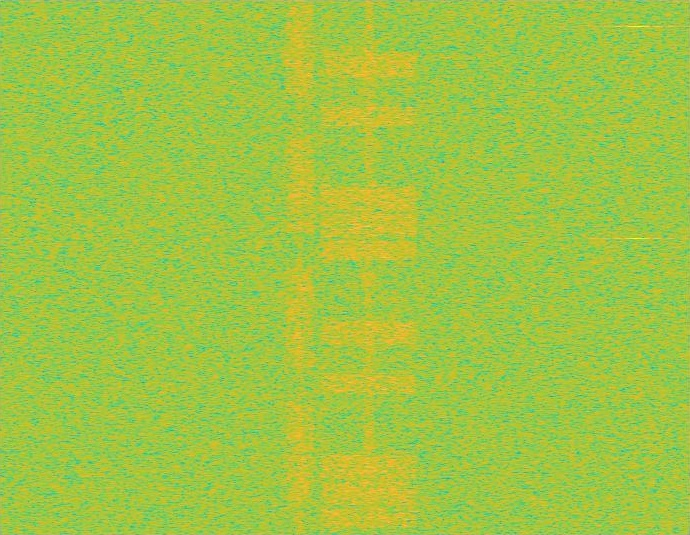5G: (283, 0, 317, 534)
DSSS: (362, 0, 376, 534), (296, 0, 304, 534)
LTE: (317, 0, 421, 534)
Radar: (631, 0, 645, 534)
